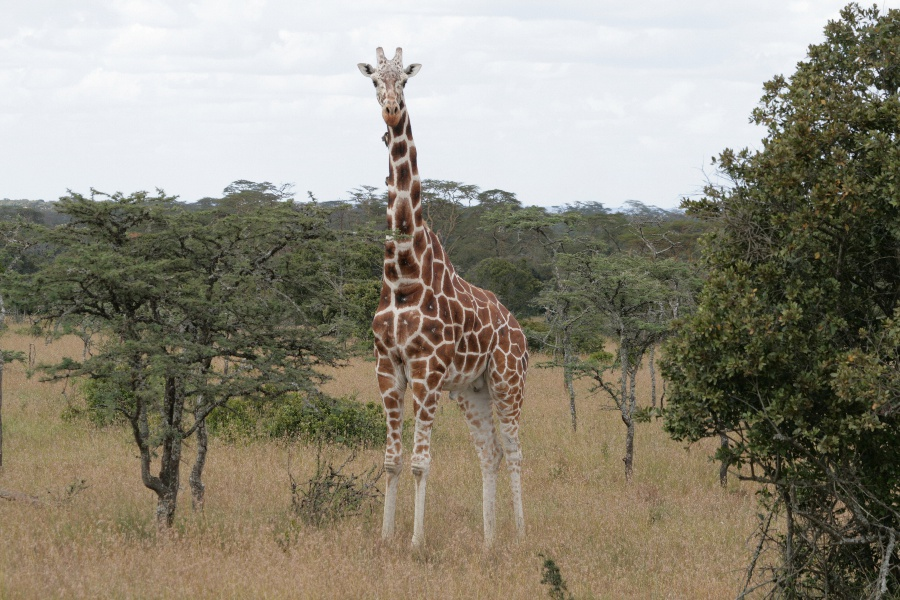giraffe: (343, 32, 541, 552)
